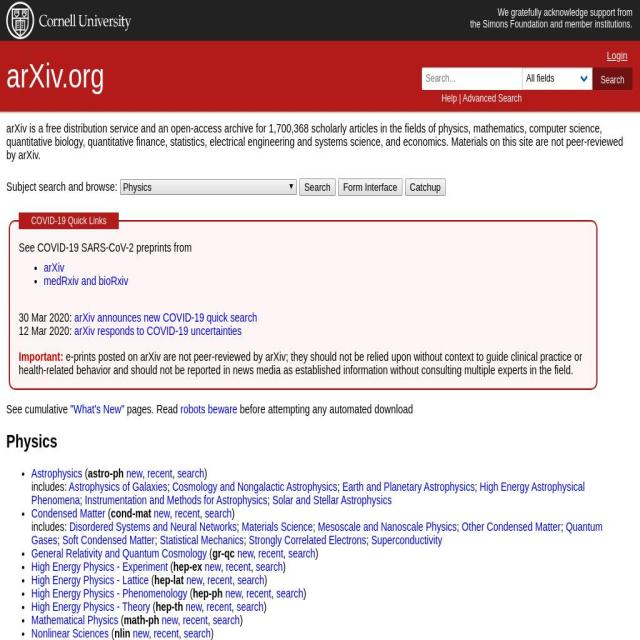button: (592, 67, 632, 90)
field: (119, 179, 297, 196), (422, 67, 530, 90), (522, 67, 592, 90), (338, 178, 402, 197), (404, 178, 446, 197), (298, 178, 336, 197)
heading: (6, 430, 634, 452), (6, 57, 105, 95)
image: (7, 2, 132, 39)
link: (31, 520, 603, 548), (31, 480, 585, 508), (85, 493, 268, 508), (74, 311, 258, 325), (31, 547, 208, 561), (74, 324, 242, 338), (69, 520, 237, 534), (172, 480, 337, 494), (31, 587, 188, 601), (318, 520, 458, 534), (31, 560, 168, 574), (342, 480, 475, 494), (272, 493, 392, 508), (31, 600, 151, 614), (249, 534, 367, 548), (32, 574, 150, 588), (461, 520, 561, 534), (69, 480, 168, 494), (62, 534, 155, 548), (31, 614, 119, 628), (159, 534, 244, 548), (44, 274, 128, 288), (31, 626, 109, 640), (31, 507, 106, 521), (371, 534, 443, 548), (242, 520, 312, 534), (180, 402, 238, 416), (70, 402, 125, 416), (31, 467, 83, 481), (462, 92, 522, 104), (204, 507, 232, 521), (288, 547, 316, 561), (276, 587, 304, 601), (236, 600, 264, 614), (212, 614, 240, 628), (183, 626, 211, 640), (177, 467, 204, 481), (256, 560, 283, 574), (237, 574, 264, 588), (174, 507, 200, 521), (258, 547, 284, 561), (246, 587, 272, 601), (206, 600, 232, 614), (153, 626, 179, 640), (147, 467, 172, 481), (226, 560, 251, 574), (207, 574, 232, 588), (183, 614, 208, 628), (44, 260, 65, 274), (607, 49, 628, 62), (126, 467, 143, 481), (186, 574, 203, 588), (225, 587, 242, 601), (185, 600, 202, 614), (132, 626, 149, 640), (154, 507, 170, 521), (237, 547, 253, 561), (204, 560, 220, 574), (162, 614, 178, 628), (442, 92, 458, 104)
text: (6, 121, 634, 166), (19, 349, 583, 377), (19, 241, 588, 255), (237, 402, 413, 416), (470, 18, 633, 30), (19, 212, 119, 230), (6, 180, 121, 194), (498, 7, 633, 18), (6, 402, 71, 416), (125, 402, 182, 416), (19, 311, 75, 325), (19, 324, 75, 338), (18, 349, 64, 363), (110, 507, 152, 521), (31, 520, 70, 534), (32, 480, 70, 494), (88, 467, 124, 481), (124, 614, 160, 628), (173, 560, 203, 574), (154, 574, 184, 588), (193, 587, 223, 601), (155, 600, 183, 614), (212, 547, 235, 561), (114, 626, 130, 640), (79, 493, 85, 508), (474, 480, 480, 494), (105, 507, 111, 521), (169, 507, 175, 521), (199, 507, 205, 521), (236, 520, 242, 534), (456, 520, 462, 534), (154, 534, 160, 548), (366, 534, 372, 548), (206, 547, 212, 561), (253, 547, 259, 561), (283, 547, 289, 561), (168, 560, 174, 574), (149, 574, 155, 588), (241, 587, 247, 601), (271, 587, 277, 601), (150, 600, 156, 614), (201, 600, 207, 614), (231, 600, 237, 614), (118, 614, 124, 628), (109, 626, 115, 640), (148, 626, 154, 640), (178, 626, 184, 640), (267, 493, 272, 508), (457, 92, 463, 104), (82, 467, 87, 481), (142, 467, 147, 481), (172, 467, 177, 481), (167, 480, 172, 494), (337, 480, 342, 494), (313, 520, 318, 534), (561, 520, 566, 534), (57, 534, 62, 548), (244, 534, 249, 548), (221, 560, 226, 574), (251, 560, 256, 574), (202, 574, 207, 588), (232, 574, 237, 588), (187, 587, 192, 601), (178, 614, 183, 628), (208, 614, 213, 628), (204, 467, 208, 481), (231, 507, 235, 521), (315, 547, 319, 561), (282, 560, 286, 574), (264, 574, 268, 588), (303, 587, 307, 601), (263, 600, 267, 614), (210, 626, 214, 640), (240, 614, 242, 628)
